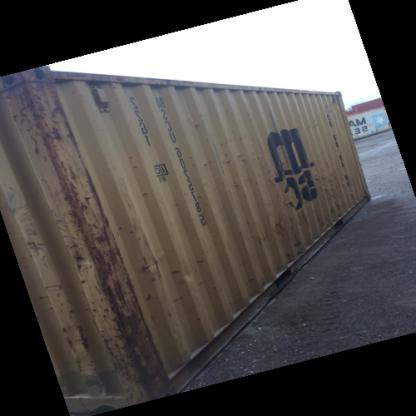Damage: (52, 159, 164, 398), (11, 72, 77, 158), (309, 159, 355, 205), (268, 212, 310, 252)
